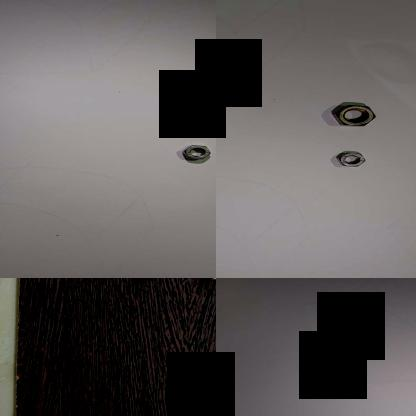NUTS: (320, 92, 384, 128), (168, 92, 216, 124), (326, 149, 376, 175), (169, 140, 216, 162)
